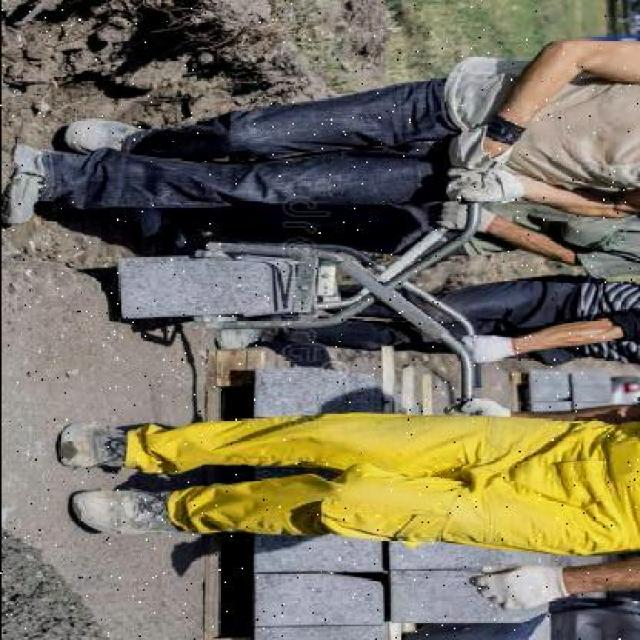shoes: (46, 418, 152, 469), (72, 487, 166, 542), (1, 148, 51, 223), (64, 124, 151, 151)
